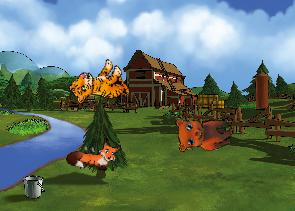bear: (170, 103, 237, 159)
fox: (65, 131, 122, 175)
tiger: (65, 52, 135, 120)
